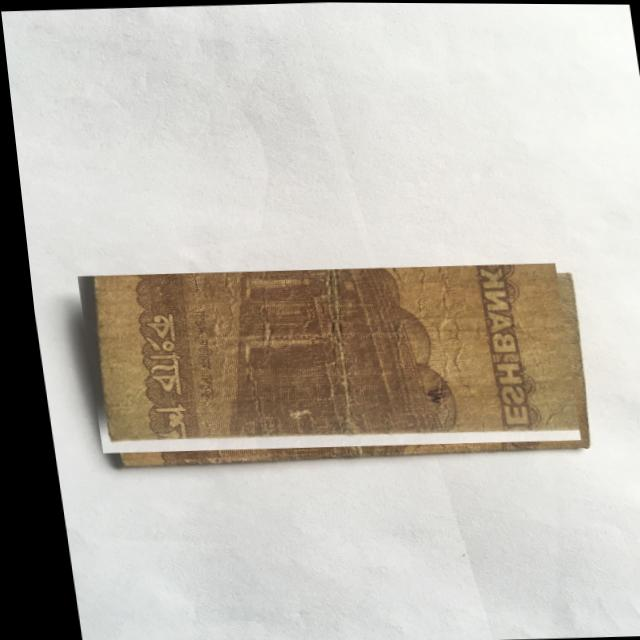Taka: (69, 259, 572, 456)
